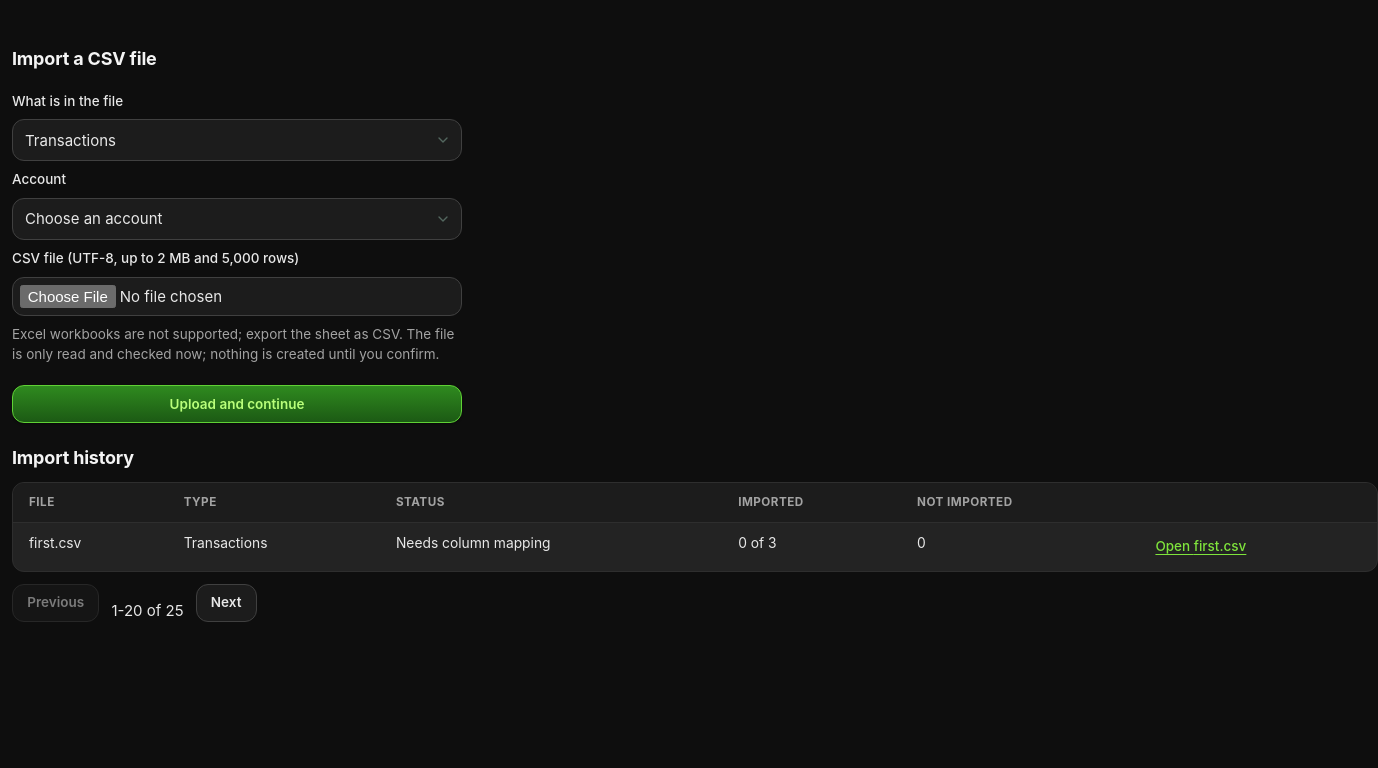
Test: import preview, history and progress (mocked fetch) › pages through the import history using the server's offset
Check: the text "first.csv" is shown, box [13, 523, 168, 571]
Check: the button "Previous" is disabled, box [12, 584, 99, 622]
Click the button "Next". click: (226,603)
box: [196, 584, 257, 622]
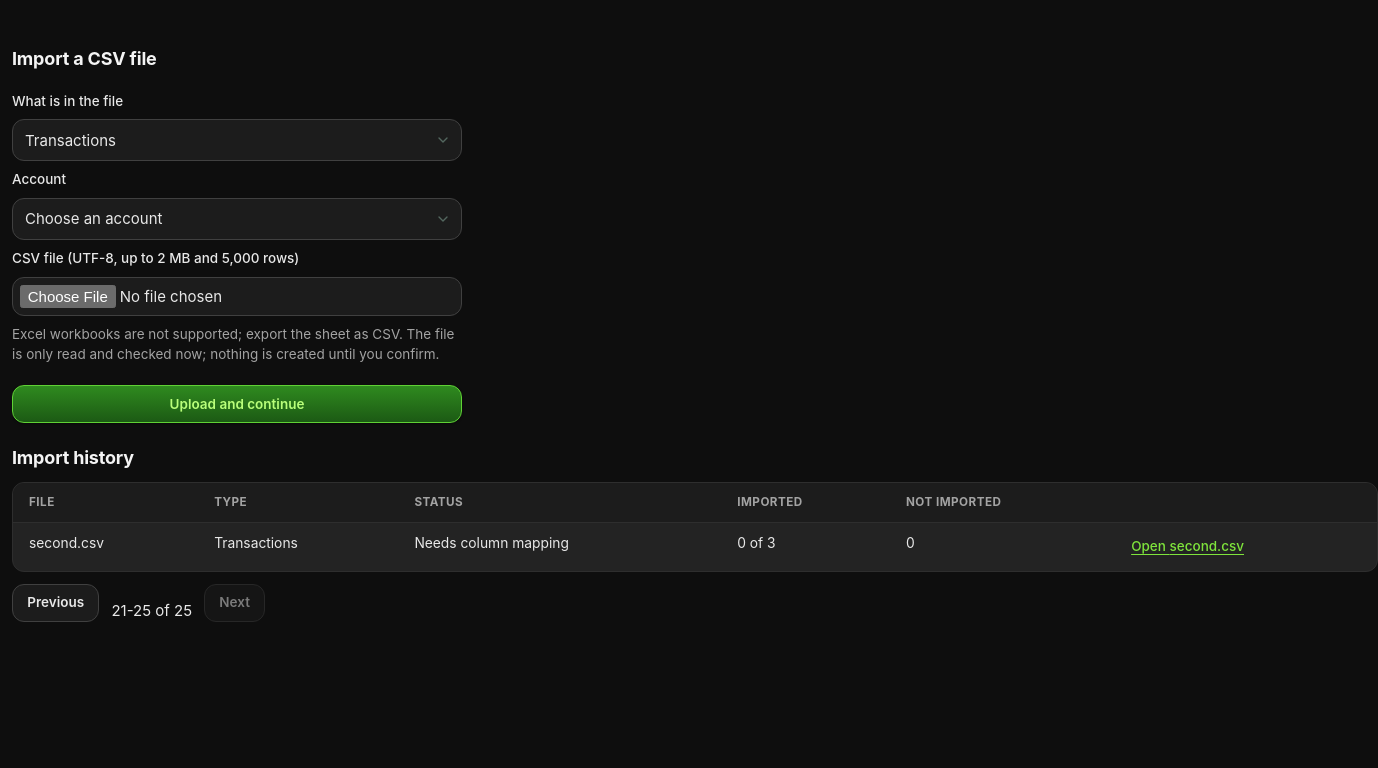
Check: the text "second.csv" is shown, box [13, 523, 198, 571]
Check: the button "Next" is disabled, box [204, 584, 265, 622]
